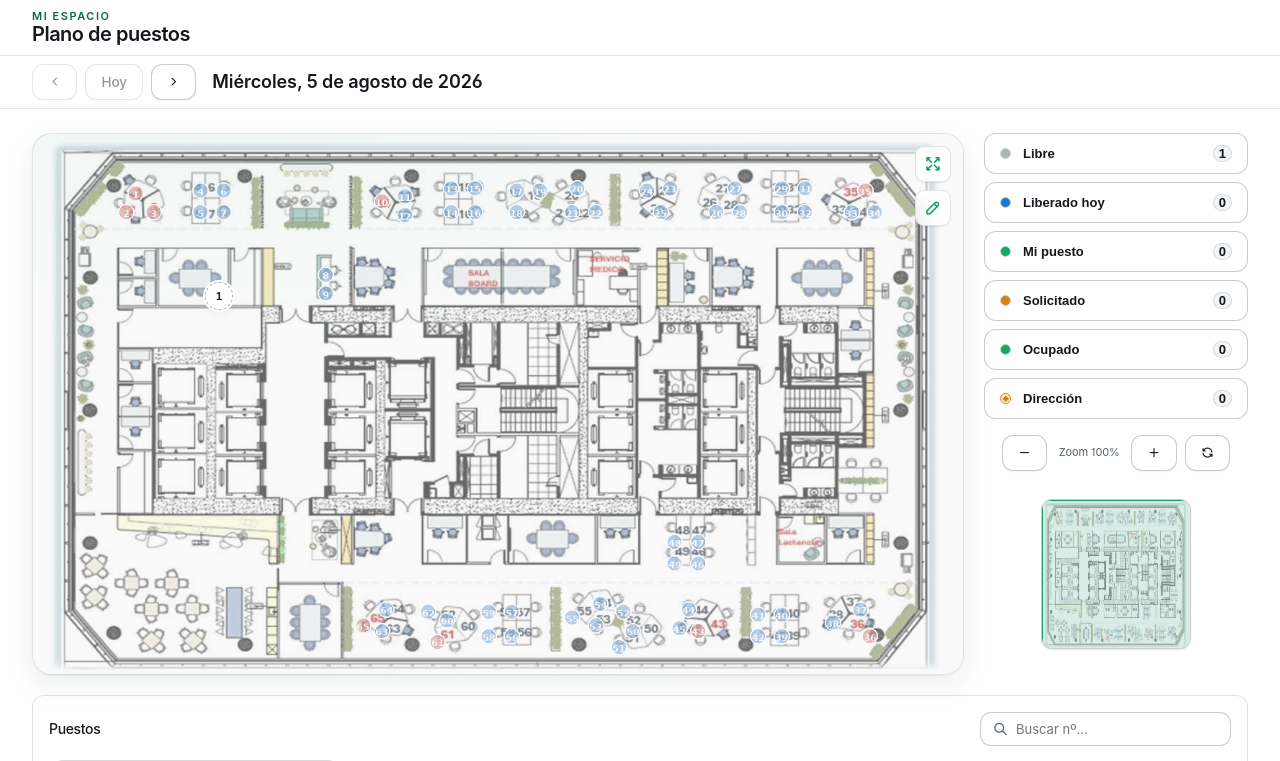
FloorPlanPage › should_show_the_save_positions_button_and_confirm_on_click
Expected: the button with test id "floor-marker" is shown, [205,282,233,310]
Click the button named "Editar posiciones" at [933, 208], box [915,190,951,226]
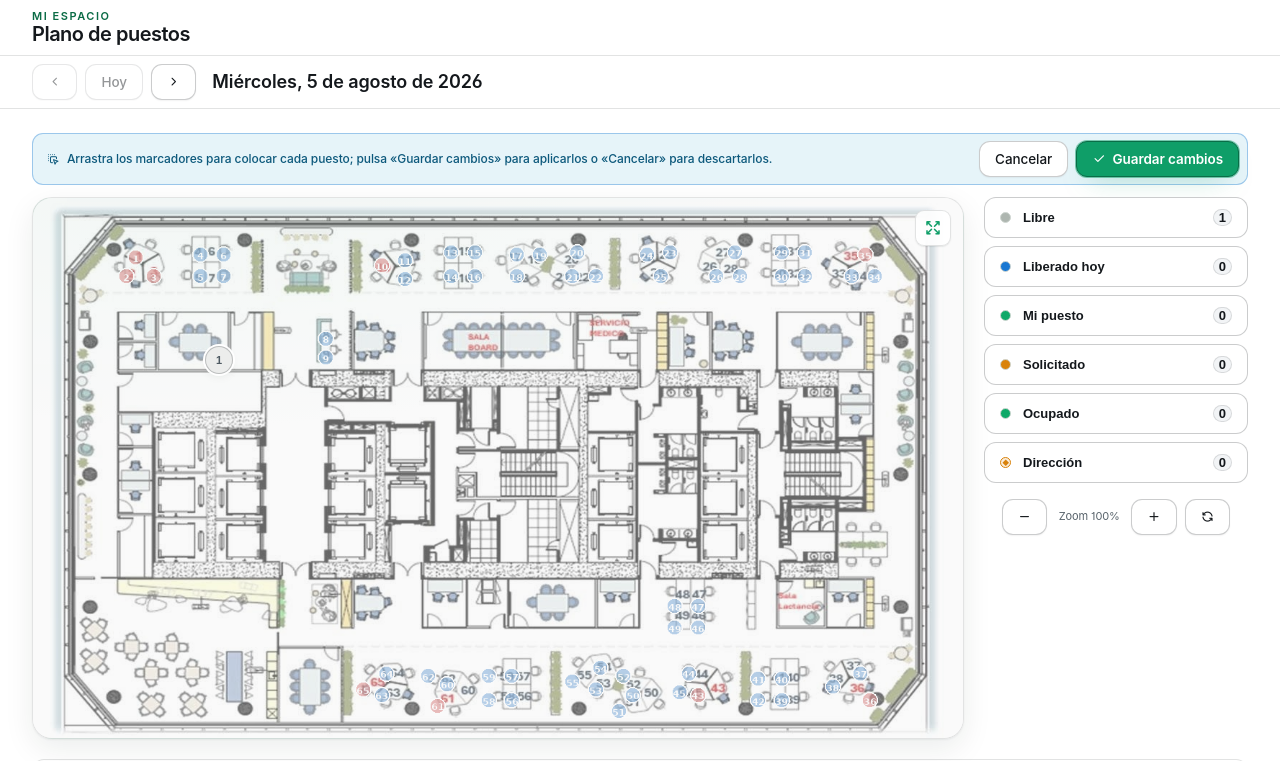
Press the mouse on the button named "puesto 1" at [219, 360], box [205,346,233,374]
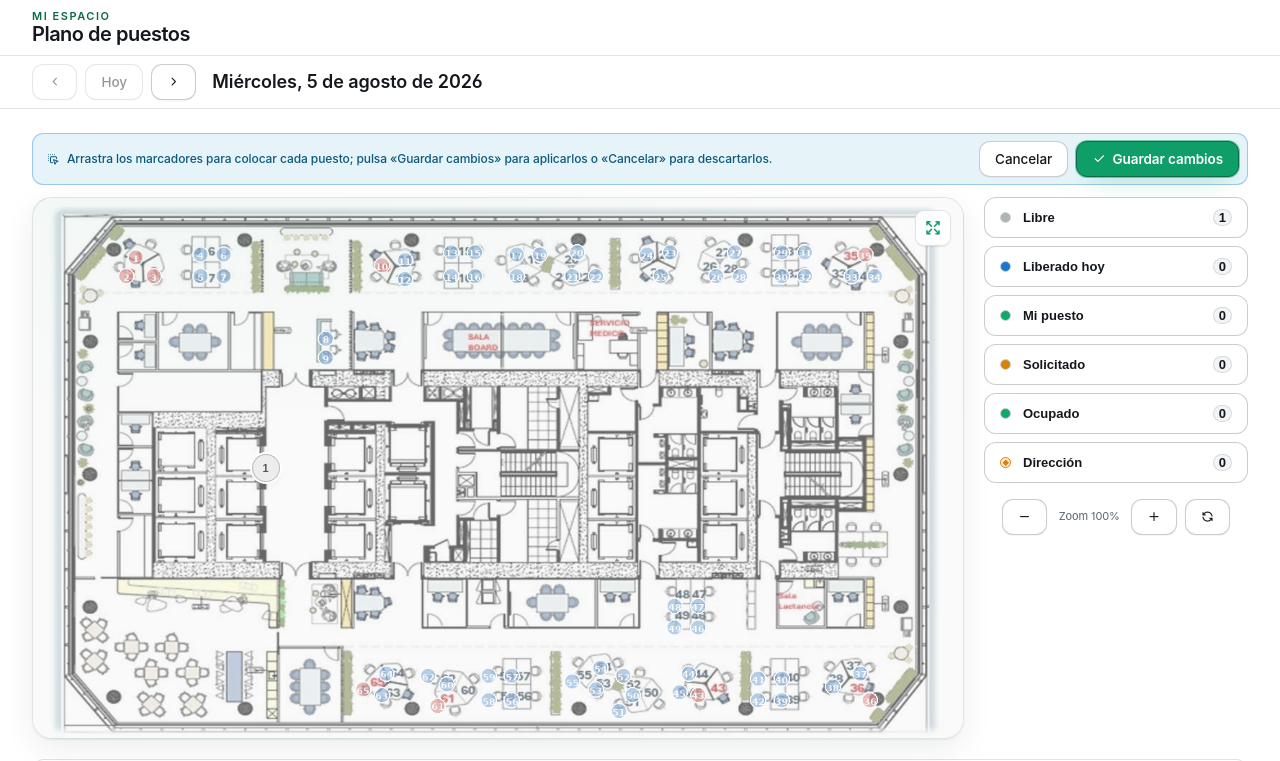
Click the button "Guardar cambios" at [1158, 159], box [1076,141,1239,177]
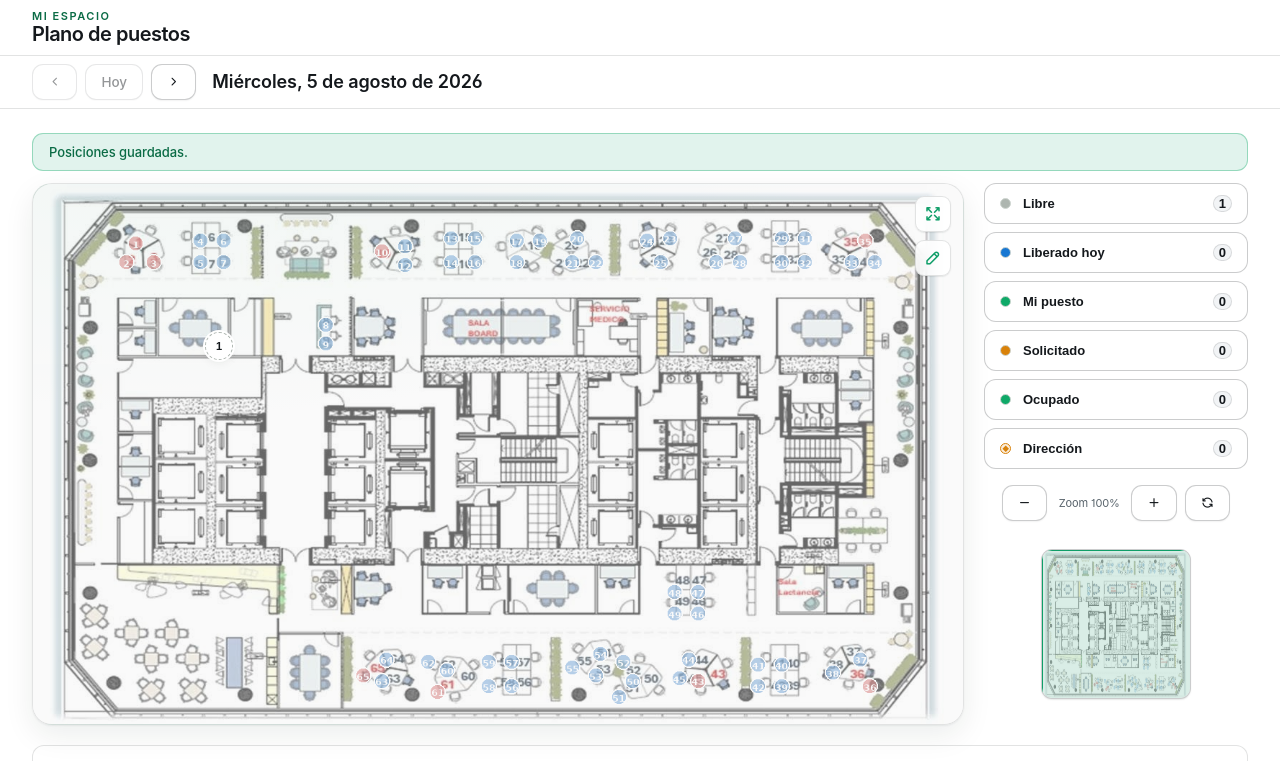
Expected: the text "Posiciones guardadas." is shown, [32,133,1248,171]
